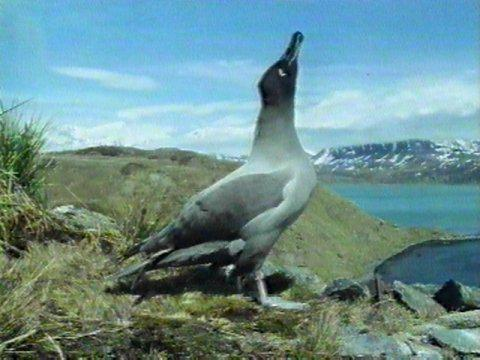003.Sooty_Albatross: (111, 28, 319, 313)
